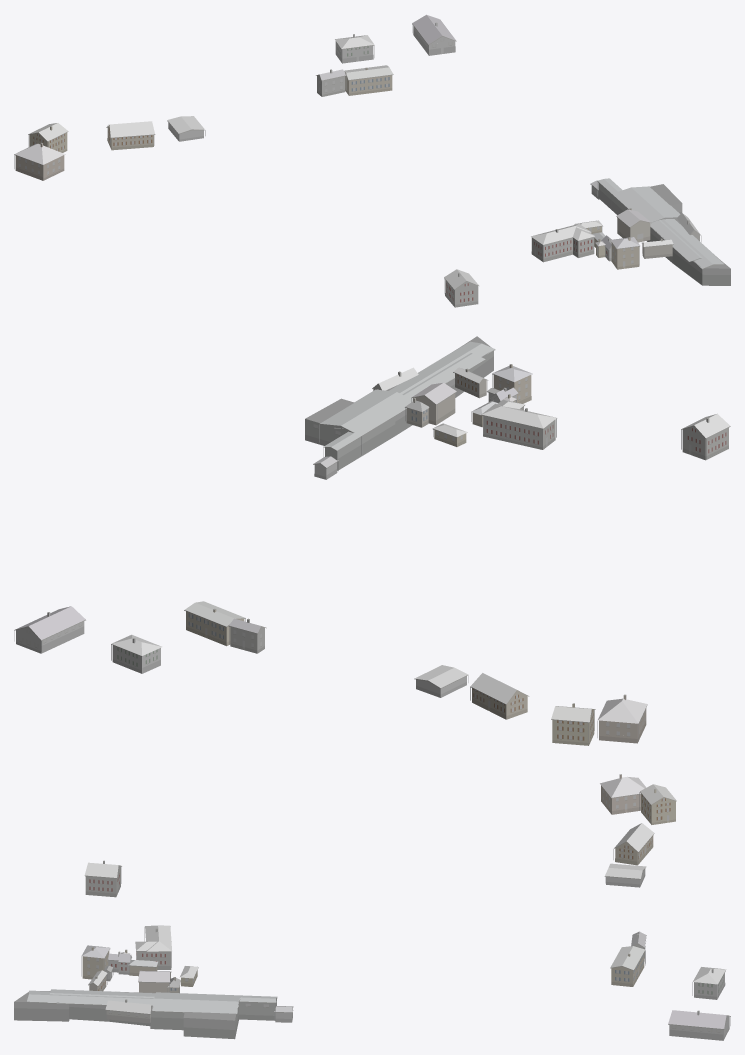
3 renders of one model, top to bottom at view 1: azimuth 30°, elevation 25°; view 2: azimuth 150°, elevation 25°; view 3: azimuth 270°, elevation 25°, orthographic. The views are drawn at different scales.
Visible parts, largest first — view 1: bld; view 2: bld; view 3: bld.
Part boxes in pixels (x1,y1,x2,y2): bld: [14, 14, 730, 307]; bld: [14, 336, 730, 745]; bld: [14, 774, 730, 1040].
Size of the model in its own units: 201 by 16.07 by 251.
